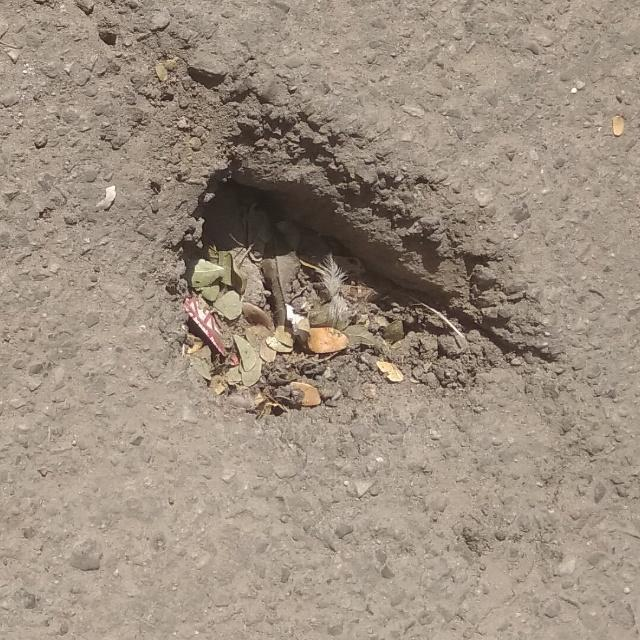Pothole: (155, 158, 506, 437)
